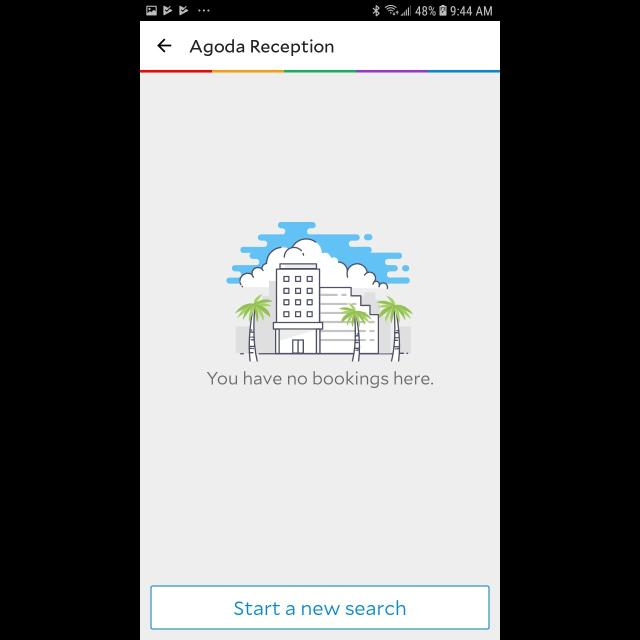icon: (158, 39, 172, 53)
image: (226, 222, 414, 362)
text: (207, 371, 433, 389), (190, 40, 334, 56)
textbutton: (150, 586, 490, 630)
uppertaskbar: (140, 1, 500, 22)
